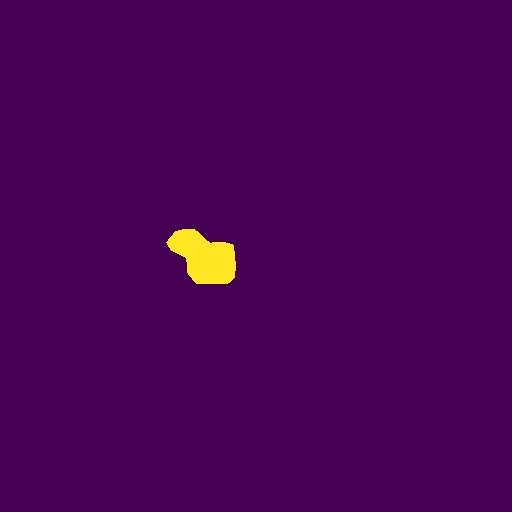Menigiomia_tumour: (166, 229, 236, 284)
